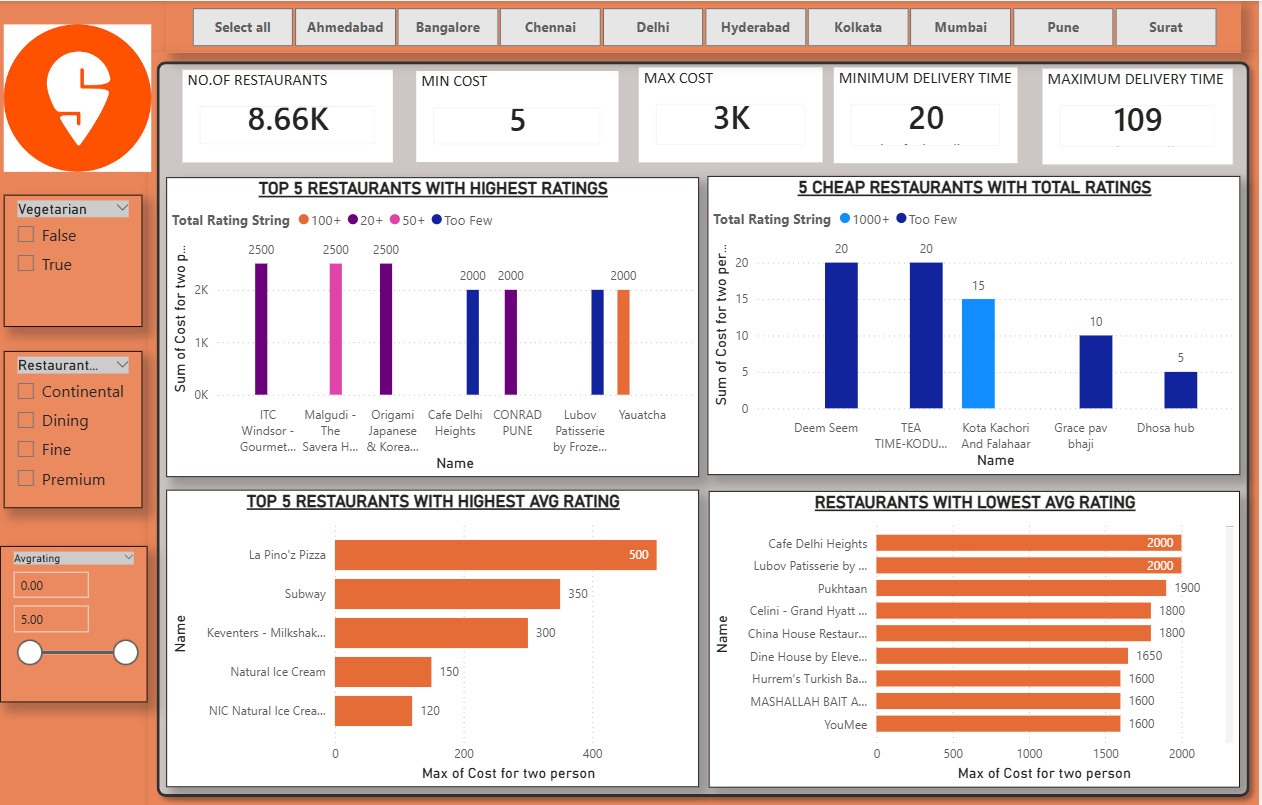

What the dashboard file says about the page in this screenshot:
{"tool":"powerbi","page":{"name":"Page 1","canvas":[1250,800],"ordinal":0},"visuals":[{"type":"shape","box":[146.4,50.9,1103,748.1],"z":0},{"type":"clusteredColumnChart","title":"TOP 5 RESTAURANTS WITH HIGHEST RATINGS","fields":{"Category":["Swiggy_Final_Data.Name"],"Series":["Swiggy_Final_Data.Total Rating String"],"Y":["Sum(Swiggy_Final_Data.Cost for two person)"]},"box":[165,174.9,528.5,297.8],"z":1000},{"type":"clusteredColumnChart","title":"5 CHEAP RESTAURANTS WITH TOTAL RATINGS","fields":{"Category":["Swiggy_Final_Data.Name"],"Series":["Swiggy_Final_Data.Total Rating String"],"Y":["Sum(Swiggy_Final_Data.Cost for two person)"]},"box":[702.2,173.7,528.5,296.5],"z":2000},{"type":"clusteredBarChart","title":"TOP 5 RESTAURANTS WITH HIGHEST AVG RATING","fields":{"Category":["Swiggy_Final_Data.Name"],"Y":["Max(Swiggy_Final_Data.Cost for two person)"]},"box":[165,485.1,528.5,295.3],"z":3000},{"type":"clusteredBarChart","title":"RESTAURANTS WITH LOWEST AVG RATING","fields":{"Category":["Swiggy_Final_Data.Name"],"Y":["Max(Swiggy_Final_Data.Cost for two person)"]},"box":[703.5,486.4,527.3,294],"z":4000},{"type":"cardVisual","title":"MAXIMUM DELIVERY TIME","fields":{"Data":["Max(Swiggy_Final_Data.Max  Delivery time)"]},"box":[1034.7,67,188.6,95.5],"z":5000},{"type":"cardVisual","title":"MINIMUM DELIVERY TIME","fields":{"Data":["Min(Swiggy_Final_Data.Min Delivery time)"]},"box":[827.5,65.8,182.4,95.5],"z":6000},{"type":"cardVisual","title":"MAX COST","fields":{"Data":["Max(Swiggy_Final_Data.Cost for two person)"]},"box":[634,65.8,182.4,94.3],"z":7000},{"type":"cardVisual","title":"MIN COST","fields":{"Data":["Min(Swiggy_Final_Data.Cost for two person)"]},"box":[413.2,69.5,201,90.6],"z":8000},{"type":"cardVisual","title":"NO.OF RESTAURANTS","fields":{"Data":["CountNonNull(Swiggy_Final_Data.ID)"]},"box":[180.8,67.9,208.4,92.1],"z":9000},{"type":"slicer","fields":{"Values":["Swiggy_Final_Data.City"]},"box":[164.7,0,1066.2,51.8],"z":10000},{"type":"slicer","fields":{"Values":["Swiggy_Final_Data.Vegetarian"]},"box":[3.7,192.3,137.7,131.5],"z":11000},{"type":"slicer","fields":{"Values":["Swiggy_Final_Data.Restaurants Type"]},"box":[3.7,347.4,137.7,156.3],"z":12000},{"type":"slicer","fields":{"Values":["Swiggy_Final_Data.Avgrating"]},"box":[0,541.2,146.2,155.4],"z":13000},{"type":"image","box":[3.7,0,146.4,192.3],"z":13001}]}

Visuals, with their boxes in screenshot pixels (x1, y1, x2, y2), scaled from the page's 1250x800 canvas onto the 1262x805 screenshot:
shape: crop(148, 51, 1261, 804)
"TOP 5 RESTAURANTS WITH HIGHEST RATINGS" clusteredColumnChart: crop(167, 176, 700, 476)
"5 CHEAP RESTAURANTS WITH TOTAL RATINGS" clusteredColumnChart: crop(709, 175, 1243, 473)
"TOP 5 RESTAURANTS WITH HIGHEST AVG RATING" clusteredBarChart: crop(167, 488, 700, 785)
"RESTAURANTS WITH LOWEST AVG RATING" clusteredBarChart: crop(710, 489, 1243, 785)
"MAXIMUM DELIVERY TIME" cardVisual: crop(1045, 67, 1235, 164)
"MINIMUM DELIVERY TIME" cardVisual: crop(835, 66, 1020, 162)
"MAX COST" cardVisual: crop(640, 66, 824, 161)
"MIN COST" cardVisual: crop(417, 70, 620, 161)
"NO.OF RESTAURANTS" cardVisual: crop(183, 68, 393, 161)
slicer - Swiggy_Final_Data.City: crop(166, 0, 1243, 52)
slicer - Swiggy_Final_Data.Vegetarian: crop(4, 194, 143, 326)
slicer - Swiggy_Final_Data.Restaurants Type: crop(4, 350, 143, 507)
slicer - Swiggy_Final_Data.Avgrating: crop(0, 545, 148, 701)
image: crop(4, 0, 152, 194)
